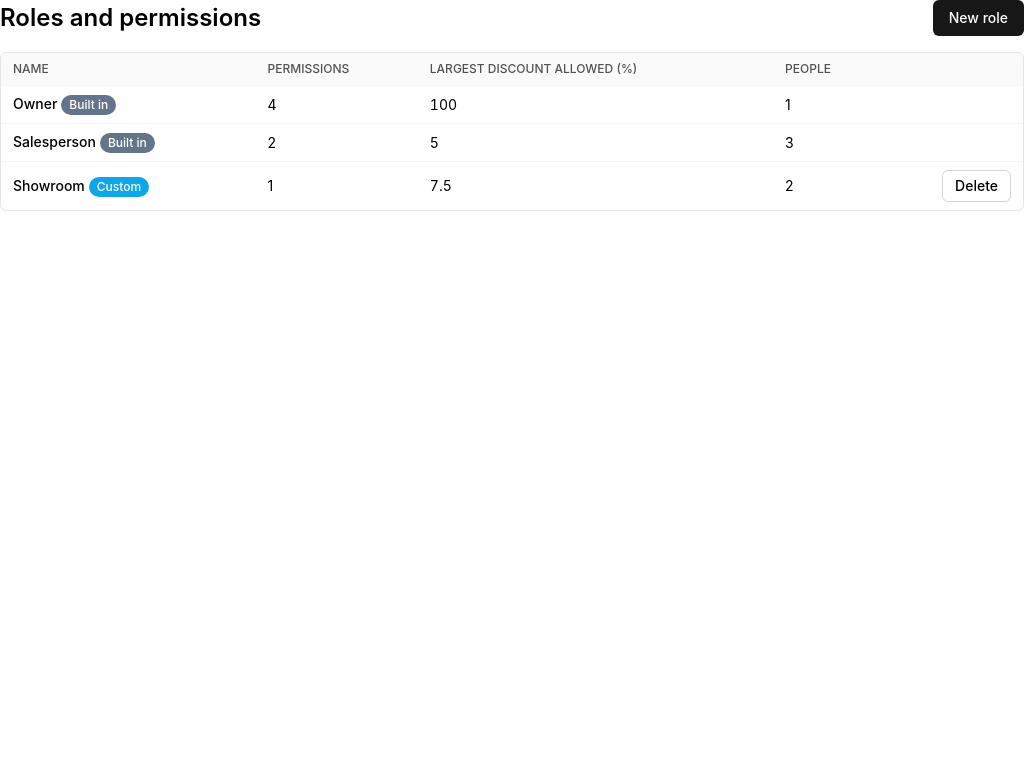
RolesManager › edits an existing role
Click the button "Showroom": click(49, 186) x1=13 y1=176 x2=85 y2=196
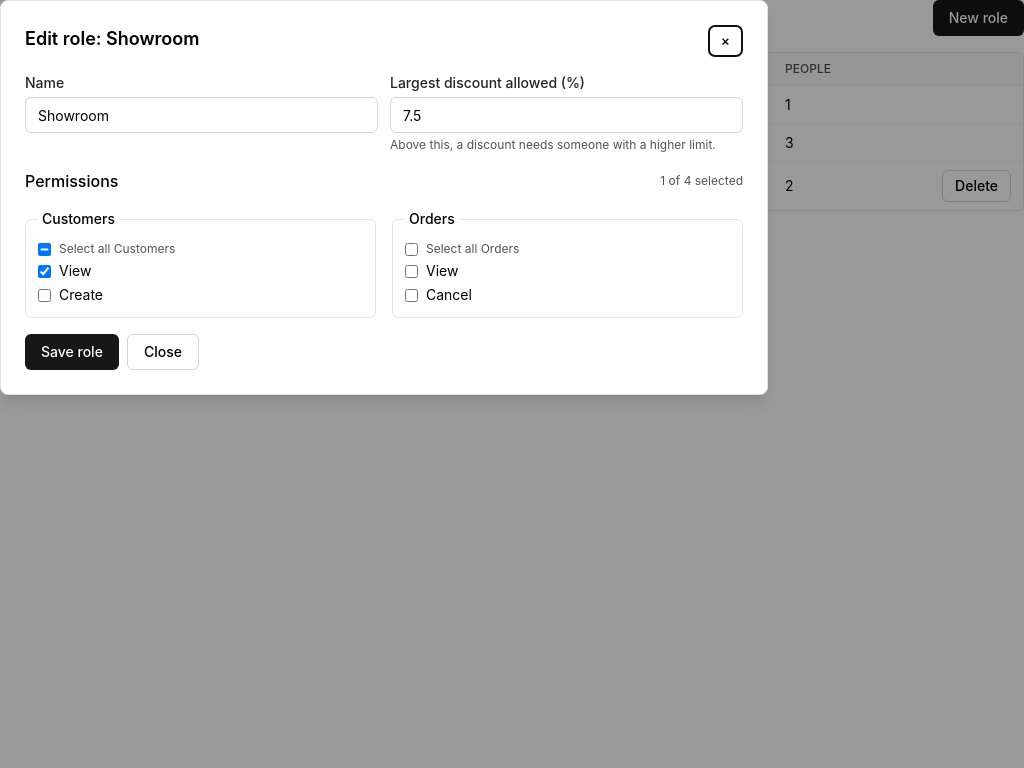
Replace the text in the field labelled "Name" with "Showroom staff": (202, 115) x1=25 y1=97 x2=378 y2=133
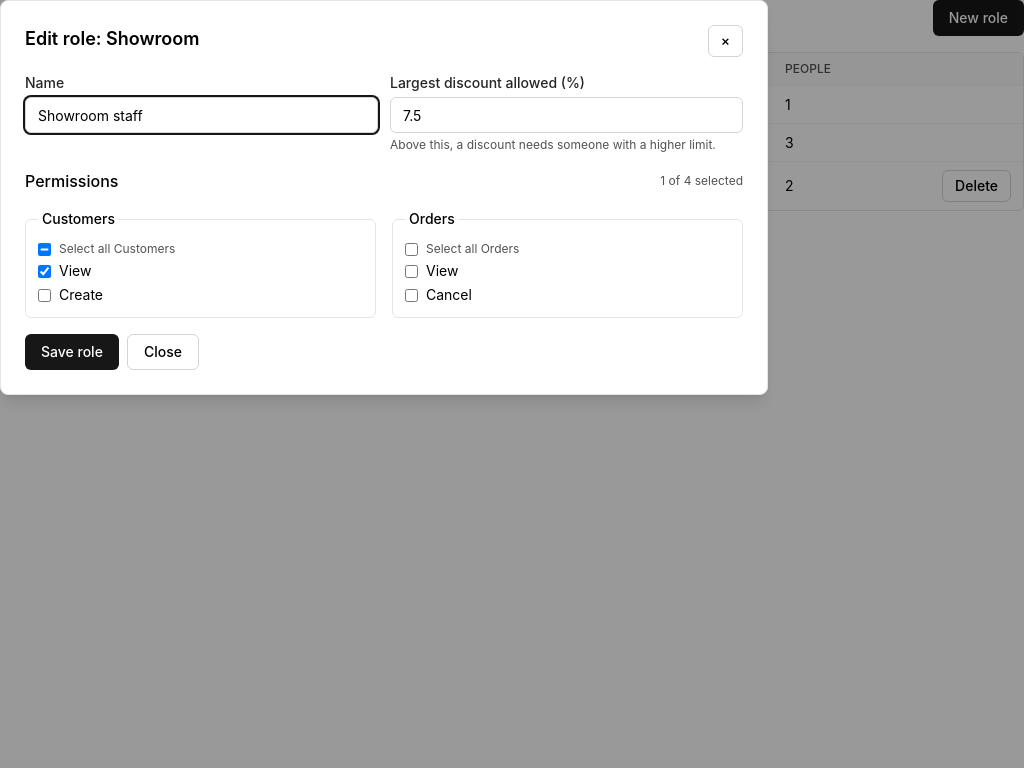
Click the button "Save role": click(72, 352) x1=25 y1=334 x2=119 y2=370
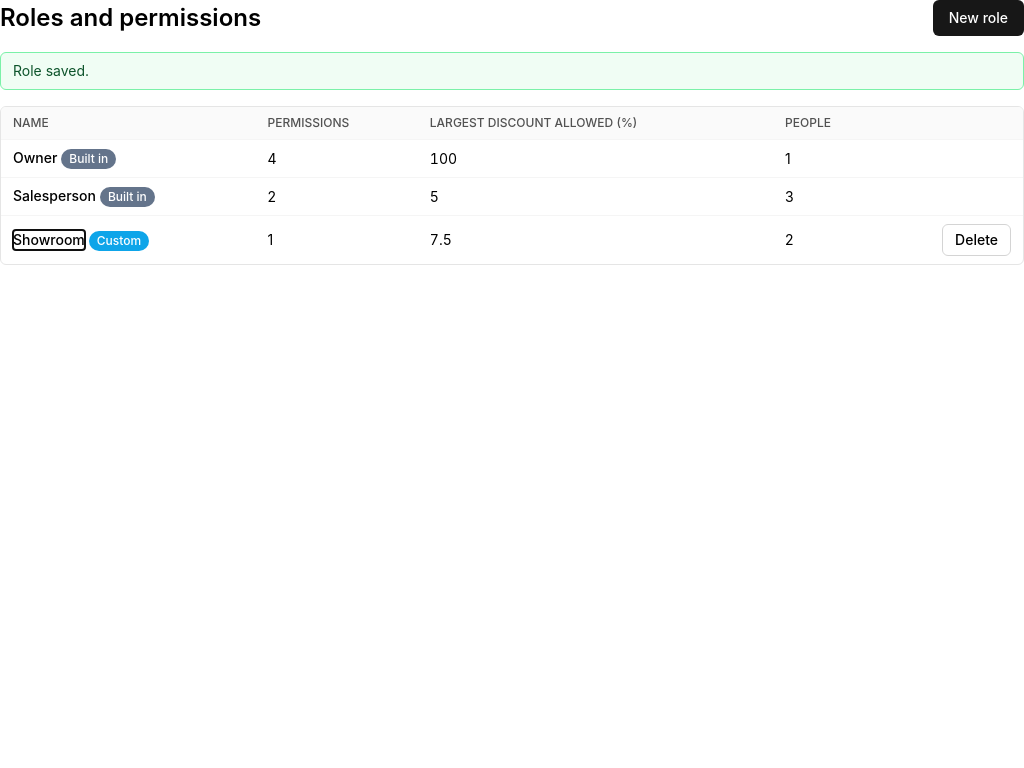
Expected: the text "Role saved." is shown, x1=0 y1=52 x2=1023 y2=90
